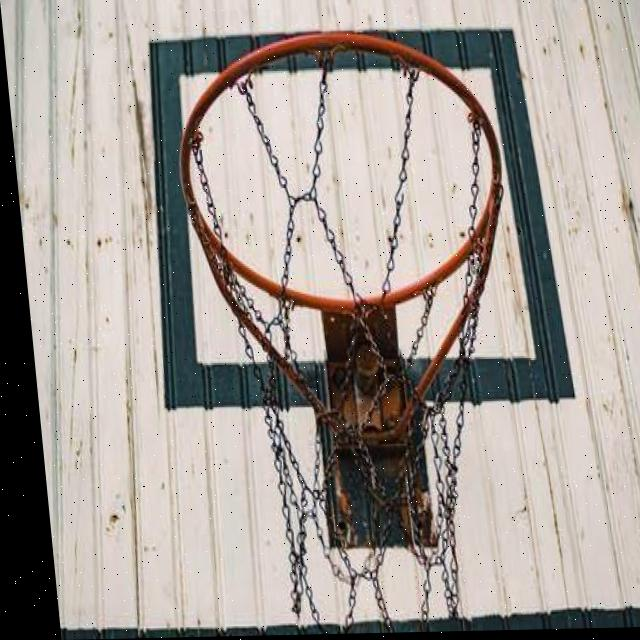hoop: (159, 67, 538, 636)
